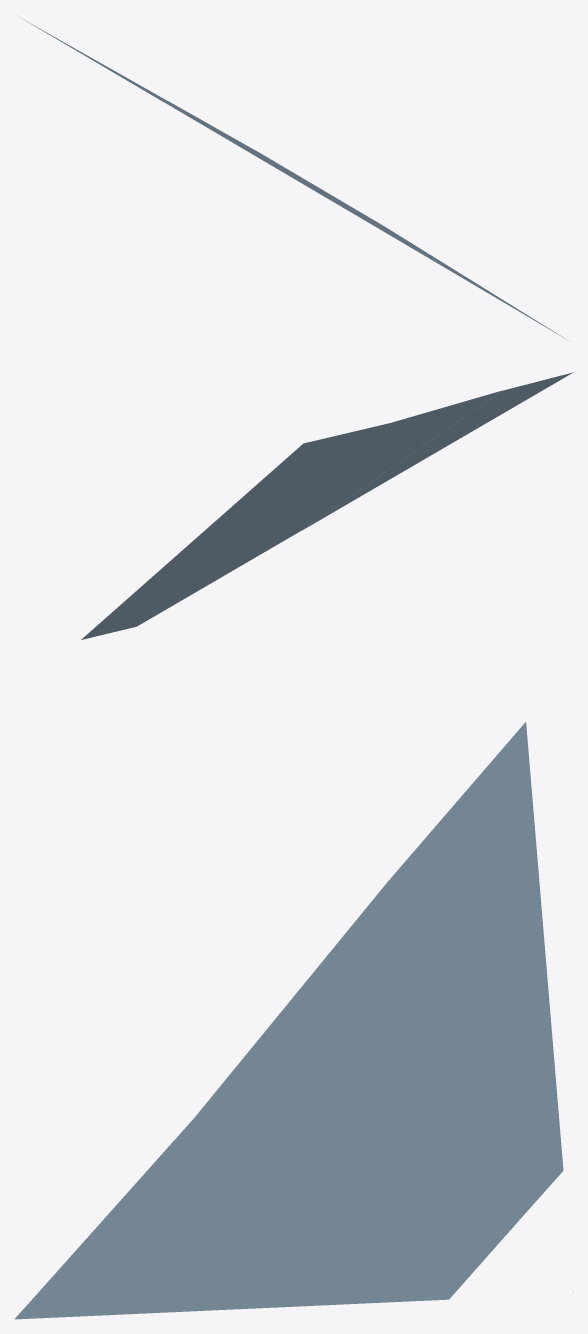
3 renders of one model, top to bottom at view 1: azimuth 30°, elevation 25°; view 2: azimuth 150°, elevation 25°; view 3: azimuth 270°, elevation 25°, orthographic. The views are drawn at different scales.
Size of the model in its own units: 1586 by 1148 by 1602.
